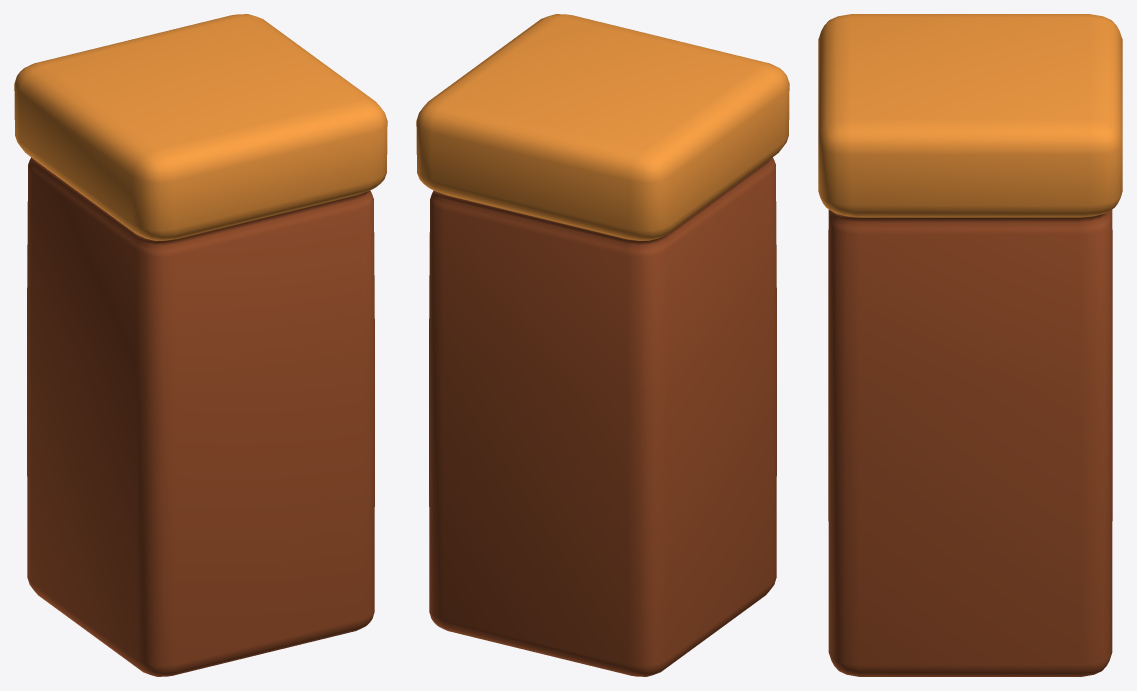
Rendered from platform_l.obj.
The picture shows the model from 3 angles, left to right: view 1: azimuth 30°, elevation 25°; view 2: azimuth 150°, elevation 25°; view 3: azimuth 270°, elevation 25°; orthographic projection. The views are drawn at different scales.
Visible parts, largest first — view 1: platform_l; view 2: platform_l; view 3: platform_l.
Boxes of the visible parts, x1,y1,x2,y2 form: platform_l: [14, 14, 387, 676]; platform_l: [416, 14, 789, 676]; platform_l: [818, 14, 1122, 676].
Size of the model in its own units: 1.97 by 3.97 by 1.97.
